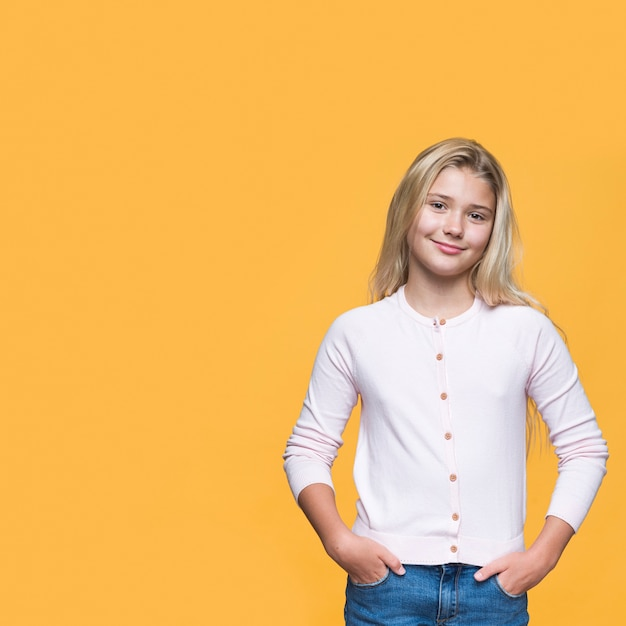teen: (353, 122, 565, 307)
